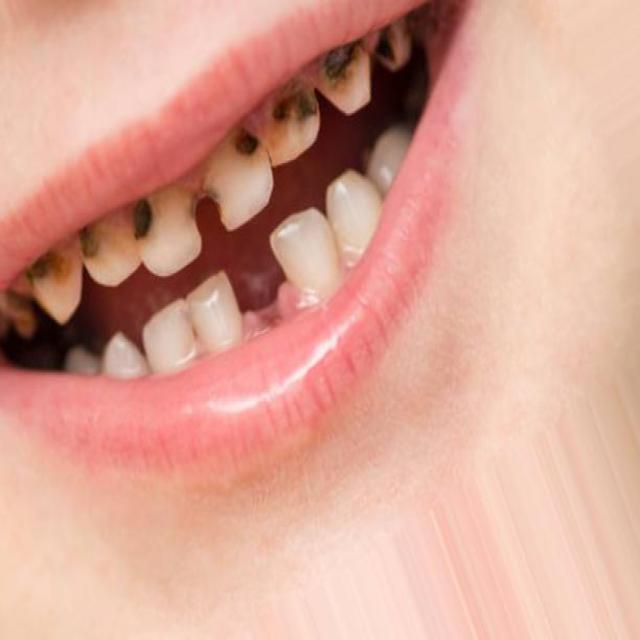caries: (254, 66, 319, 146), (312, 30, 370, 107), (117, 187, 172, 262), (16, 239, 70, 305), (183, 180, 232, 242), (219, 117, 265, 183), (70, 212, 115, 279), (370, 13, 409, 84), (0, 285, 44, 345)
